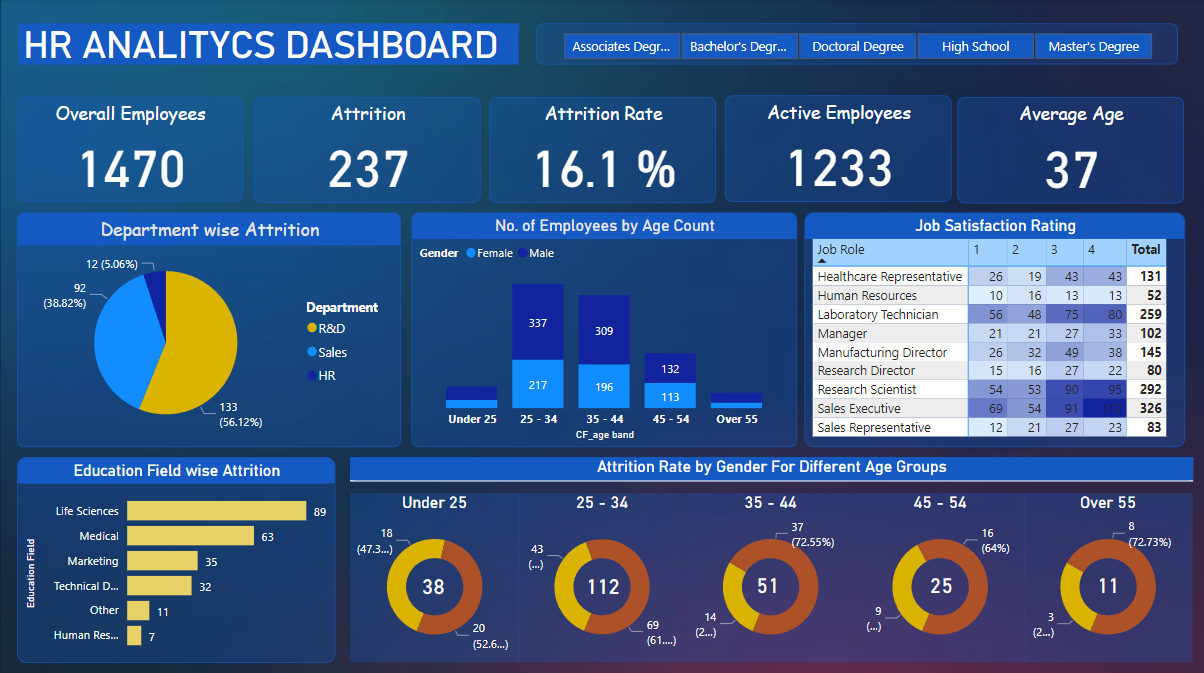

What the dashboard file says about the page in this screenshot:
{"tool":"powerbi","page":{"name":"Página 1","canvas":[1280,720],"ordinal":0},"visuals":[{"type":"card","title":"Overall Employees","fields":{"Values":["Sum(HR data.Employee Count)"]},"box":[18.3,104.3,239.4,110.6],"z":0},{"type":"card","title":"Attrition","fields":{"Values":["Sum(HR data.Attrition Count)"]},"box":[270.4,104.6,240,111.8],"z":1000},{"type":"card","title":"Attrition Rate","fields":{"Values":["HR data.Attrition Rate"]},"box":[519.5,104.6,240,111.8],"z":2000},{"type":"card","title":"Active Employees","fields":{"Values":["HR data.Active Employees"]},"box":[769.5,103.7,240,112.7],"z":3000},{"type":"card","title":"Average Age","fields":{"Values":["Avg(HR data.Age)"]},"box":[1015.8,104.6,240,112.7],"z":4000},{"type":"pieChart","title":"Department wise Attrition","fields":{"Category":["HR data.Department"],"Y":["Sum(HR data.Attrition Count)"]},"box":[18.3,226.7,406.7,248.3],"z":5000},{"type":"columnChart","title":"No. of Employees by Age Count","fields":{"Category":["HR data.CF_age band"],"Y":["Sum(HR data.Employee Count)"],"Series":["HR data.Gender"]},"box":[436.7,226.7,408.3,248.3],"z":6000},{"type":"pivotTable","title":"Job Satisfaction Rating","fields":{"Rows":["HR data.Job Role"],"Columns":["HR data.Job Satisfaction"],"Values":["Sum(HR data.Employee Count)"]},"box":[853.3,226.7,403.3,248.3],"z":7000},{"type":"barChart","title":"Education Field wise Attrition","fields":{"Category":["HR data.Education Field"],"Y":["Sum(HR data.Attrition Count)"]},"box":[18.4,486.5,337.1,217.7],"z":8000},{"type":"donutChart","title":"Under 25","fields":{"Category":["HR data.Gender"],"Y":["Sum(HR data.Attrition Count)"],"Series":["HR data.CF_age band"]},"box":[371.7,525.2,179,179],"z":9000},{"type":"textbox","title":"Attrition Rate by Gender For Different  Age Groups","box":[371.7,486.5,893.5,25.8],"z":10000},{"type":"donutChart","title":"25 - 34","fields":{"Category":["HR data.Gender"],"Y":["Sum(HR data.Attrition Count)"],"Series":["HR data.CF_age band"]},"box":[550.7,525.2,177.4,179],"z":11000},{"type":"donutChart","title":"35 - 44","fields":{"Category":["HR data.Gender"],"Y":["Sum(HR data.Attrition Count)"],"Series":["HR data.CF_age band"]},"box":[728.1,525.2,179,179],"z":12000},{"type":"donutChart","title":"45 - 54","fields":{"Category":["HR data.Gender"],"Y":["Sum(HR data.Attrition Count)"],"Series":["HR data.CF_age band"]},"box":[907.1,525.2,179,179],"z":13000},{"type":"donutChart","title":"Over 55","fields":{"Category":["HR data.Gender"],"Y":["Sum(HR data.Attrition Count)"],"Series":["HR data.CF_age band"]},"box":[1086.2,525.2,179,179],"z":14000},{"type":"card","title":"Overall Employees","fields":{"Values":["Sum(HR data.Attrition Count)"]},"box":[431.1,601,58,44],"z":15000},{"type":"card","title":"Overall Employees","fields":{"Values":["Sum(HR data.Attrition Count)"]},"box":[611.1,601,58,44],"z":16000},{"type":"card","title":"Overall Employees","fields":{"Values":["Sum(HR data.Attrition Count)"]},"box":[785.7,601,58.3,43.3],"z":17000},{"type":"card","title":"Overall Employees","fields":{"Values":["Sum(HR data.Attrition Count)"]},"box":[969.1,601,58.3,43.3],"z":18000},{"type":"card","title":"Overall Employees","fields":{"Values":["Sum(HR data.Attrition Count)"]},"box":[1145.7,601,58.3,43.3],"z":19000},{"type":"textbox","title":"HR ANALITYCS DASHBOARD","box":[20,26.7,530,43.3],"z":20000},{"type":"slicer","fields":{"Values":["HR data.Education"]},"box":[568.3,26.7,680,43.3],"z":21000}]}

Visuals, with their boxes in screenshot pixels (x1, y1, x2, y2), scaled from the page's 1280x720 canvas onto the 1204x673 screenshot:
"Overall Employees" card: left=17, top=97, right=242, bottom=201
"Attrition" card: left=254, top=98, right=480, bottom=202
"Attrition Rate" card: left=489, top=98, right=714, bottom=202
"Active Employees" card: left=724, top=97, right=950, bottom=202
"Average Age" card: left=955, top=98, right=1181, bottom=203
"Department wise Attrition" pieChart: left=17, top=212, right=400, bottom=444
"No. of Employees by Age Count" columnChart: left=411, top=212, right=795, bottom=444
"Job Satisfaction Rating" pivotTable: left=803, top=212, right=1182, bottom=444
"Education Field wise Attrition" barChart: left=17, top=455, right=334, bottom=658
"Under 25" donutChart: left=350, top=491, right=518, bottom=658
"Attrition Rate by Gender For Different  Age Groups" textbox: left=350, top=455, right=1190, bottom=479
"25 - 34" donutChart: left=518, top=491, right=685, bottom=658
"35 - 44" donutChart: left=685, top=491, right=853, bottom=658
"45 - 54" donutChart: left=853, top=491, right=1022, bottom=658
"Over 55" donutChart: left=1022, top=491, right=1190, bottom=658
"Overall Employees" card: left=406, top=562, right=460, bottom=603
"Overall Employees" card: left=575, top=562, right=629, bottom=603
"Overall Employees" card: left=739, top=562, right=794, bottom=602
"Overall Employees" card: left=912, top=562, right=966, bottom=602
"Overall Employees" card: left=1078, top=562, right=1133, bottom=602
"HR ANALITYCS DASHBOARD" textbox: left=19, top=25, right=517, bottom=65
slicer - HR data.Education: left=535, top=25, right=1174, bottom=65
